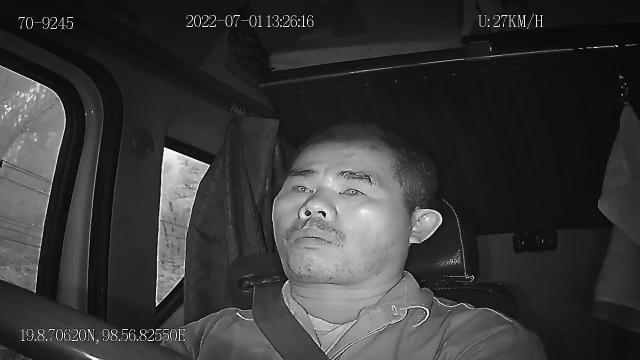SafeDriving: (332, 174, 374, 204), (282, 175, 318, 200)
Seatbelt: (234, 278, 326, 360)
